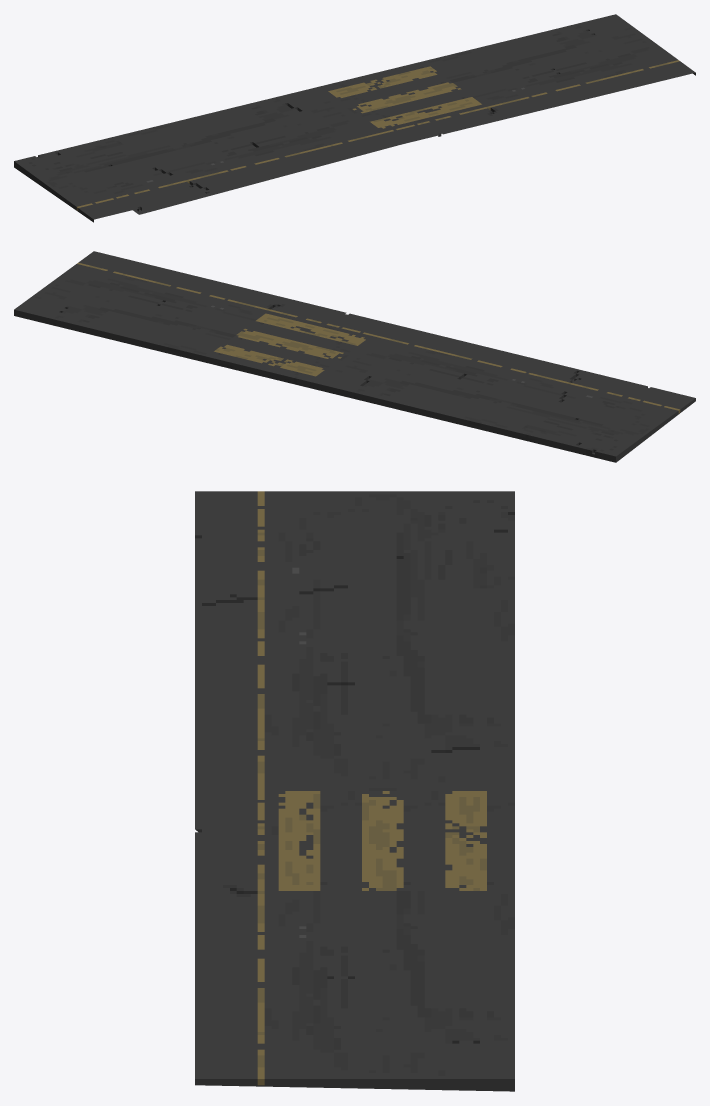
Rendered from road_pieton.obj.
3 views of the same model, one above another, from view 1: azimuth 30°, elevation 25°; view 2: azimuth 150°, elevation 25°; view 3: azimuth 270°, elevation 25° (orthographic). The views are drawn at different scales.
Visible parts, largest first — view 1: GroundTile; view 2: GroundTile; view 3: GroundTile.
Boxes of the visible parts, left/top/right/bottom form: GroundTile: left=14, top=14, right=695, bottom=222; GroundTile: left=14, top=251, right=695, bottom=462; GroundTile: left=195, top=491, right=514, bottom=1091.
Size of the model in its own units: 20 by 0.2 by 4.6.
1 material, 1 textured.
